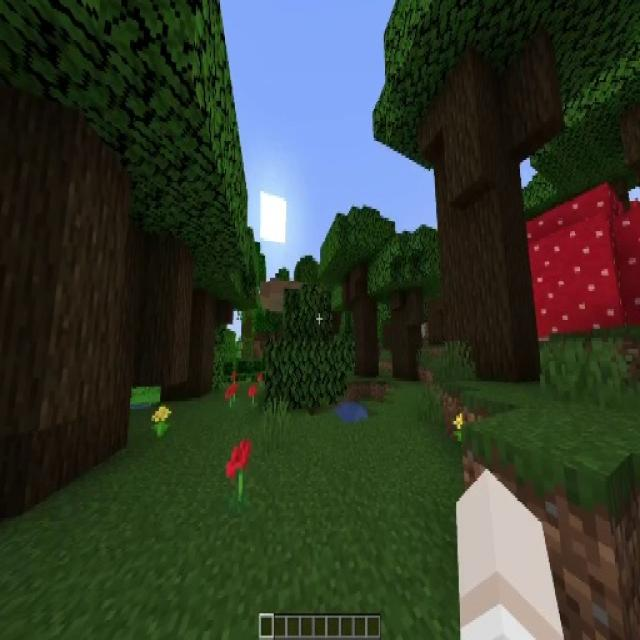dark_oak: (0, 0, 256, 510), (387, 0, 540, 377), (324, 204, 393, 376), (378, 238, 444, 378)
dark_oak_log: (0, 104, 135, 500), (433, 74, 537, 363), (167, 286, 216, 398), (392, 294, 423, 378), (352, 276, 378, 376)
